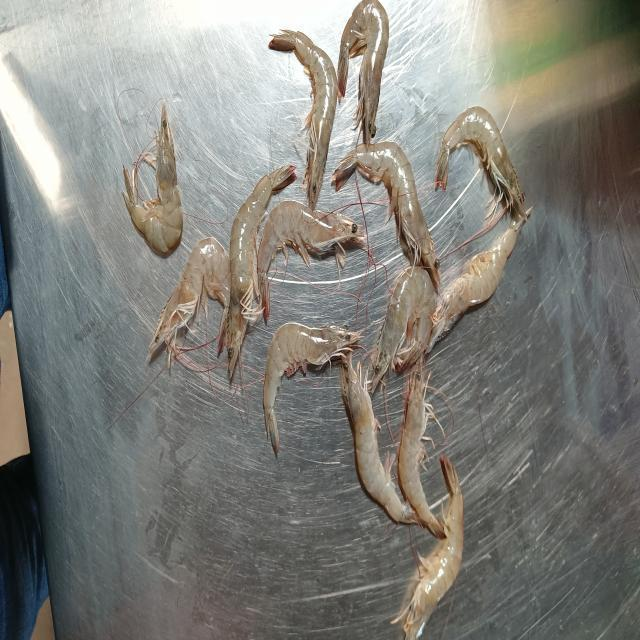shrimp: (334, 135, 444, 279), (232, 164, 300, 379), (261, 197, 369, 321), (345, 350, 426, 514), (432, 206, 528, 341), (405, 445, 471, 640), (270, 319, 366, 452), (270, 29, 340, 208), (154, 239, 236, 367), (438, 97, 530, 208), (128, 108, 188, 257), (404, 354, 452, 529), (376, 259, 440, 387), (339, 0, 390, 139), (258, 274, 275, 299), (150, 137, 156, 155)
